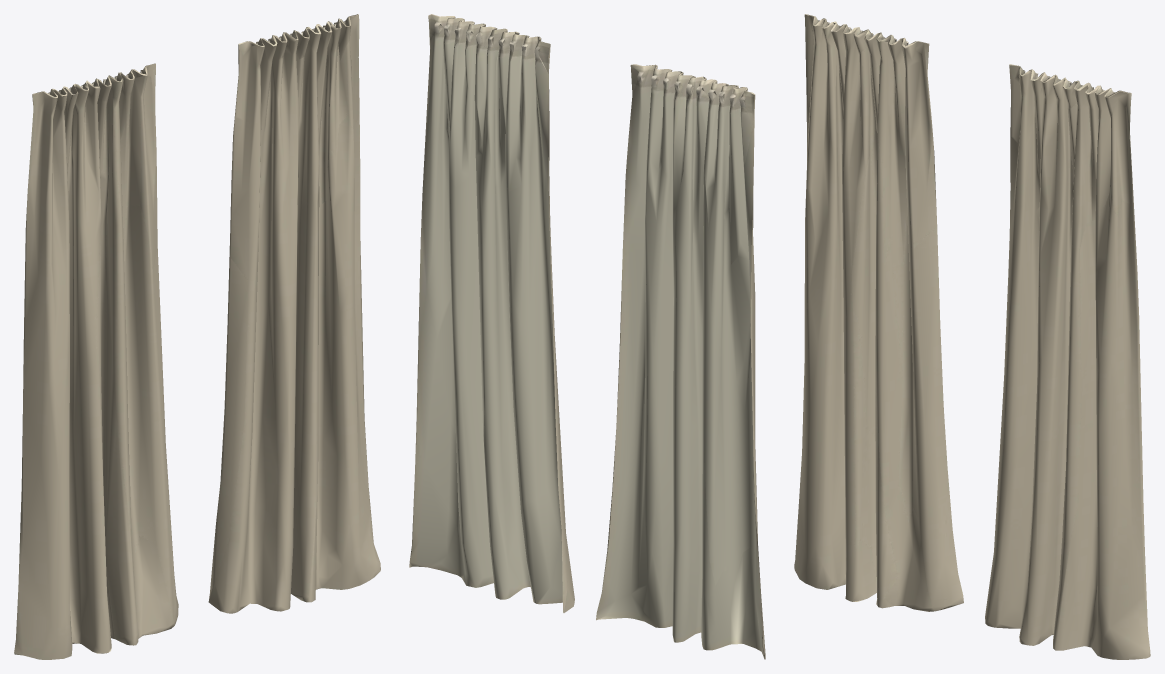
The picture shows the model from 3 angles, left to right: view 1: azimuth 30°, elevation 25°; view 2: azimuth 150°, elevation 25°; view 3: azimuth 330°, elevation 25°; orthographic projection.
Visible parts, largest first — view 1: ASY_LPT01_50597158_S02_NV01; view 2: ASY_LPT01_50597158_S02_NV01; view 3: ASY_LPT01_50597158_S02_NV01.
Part boxes in pixels (x1,y1,x2,y2): ASY_LPT01_50597158_S02_NV01: (14, 14, 380, 659); ASY_LPT01_50597158_S02_NV01: (409, 14, 765, 659); ASY_LPT01_50597158_S02_NV01: (794, 14, 1150, 659).
Bounding box in the file's own units: 1.7 × 2.54 × 0.2177.
2 materials, 2 textured.
